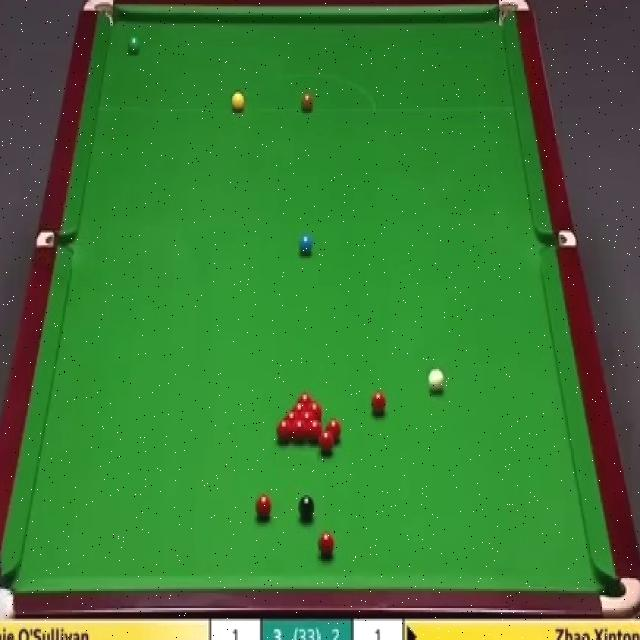black-ball: (298, 495, 316, 522)
blue-ball: (298, 234, 313, 256)
brown-ball: (300, 93, 314, 113)
green-ball: (128, 36, 140, 56)
red-ball: (319, 530, 336, 558), (254, 494, 272, 520), (307, 419, 323, 444), (275, 419, 292, 442), (371, 392, 386, 418), (318, 432, 334, 455), (326, 419, 341, 443), (292, 419, 306, 441), (308, 401, 322, 418), (294, 390, 314, 400), (299, 410, 315, 420), (291, 401, 307, 411), (284, 411, 299, 420)
white-ball: (427, 367, 445, 396)
yellow-ball: (230, 92, 244, 112)
